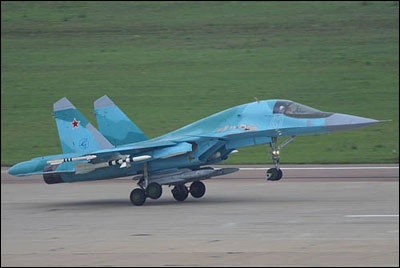airplane: (5, 93, 390, 208)
